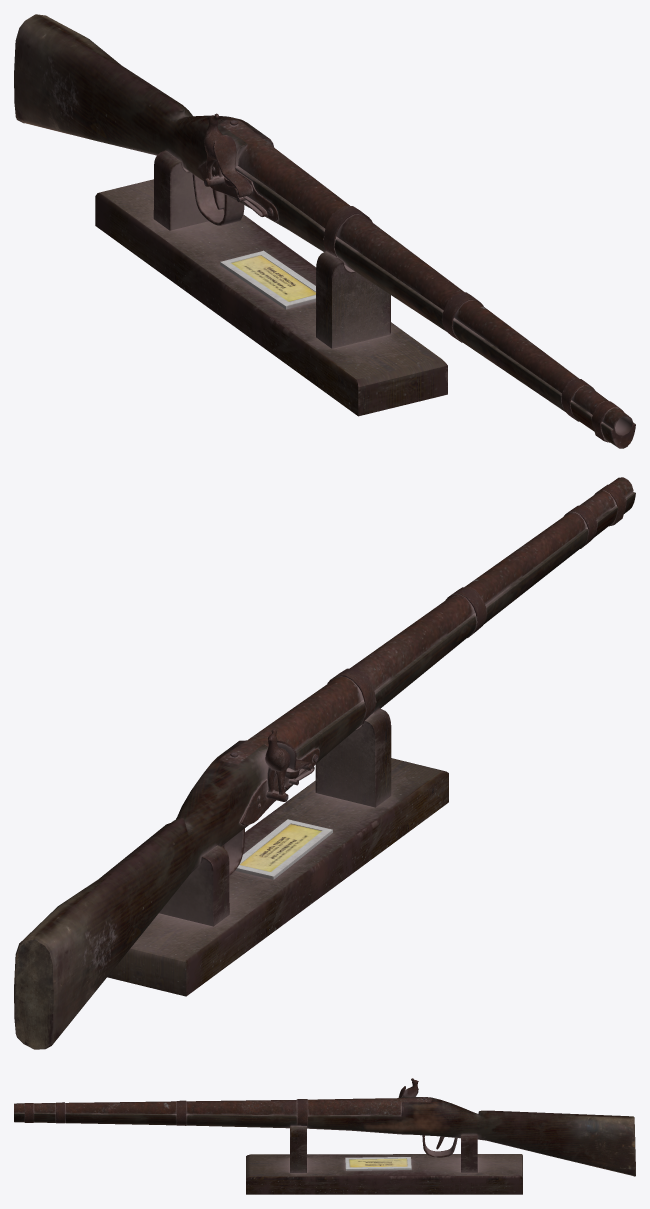
The model's file is sung.glb.
3 renders of one model, top to bottom at view 1: azimuth 30°, elevation 25°; view 2: azimuth 150°, elevation 25°; view 3: azimuth 270°, elevation 25°, orthographic. The views are drawn at different scales.
Size of the model in its own units: 3.46 by 6.66 by 38.56.
Materials: 1 (1 with a texture image).
